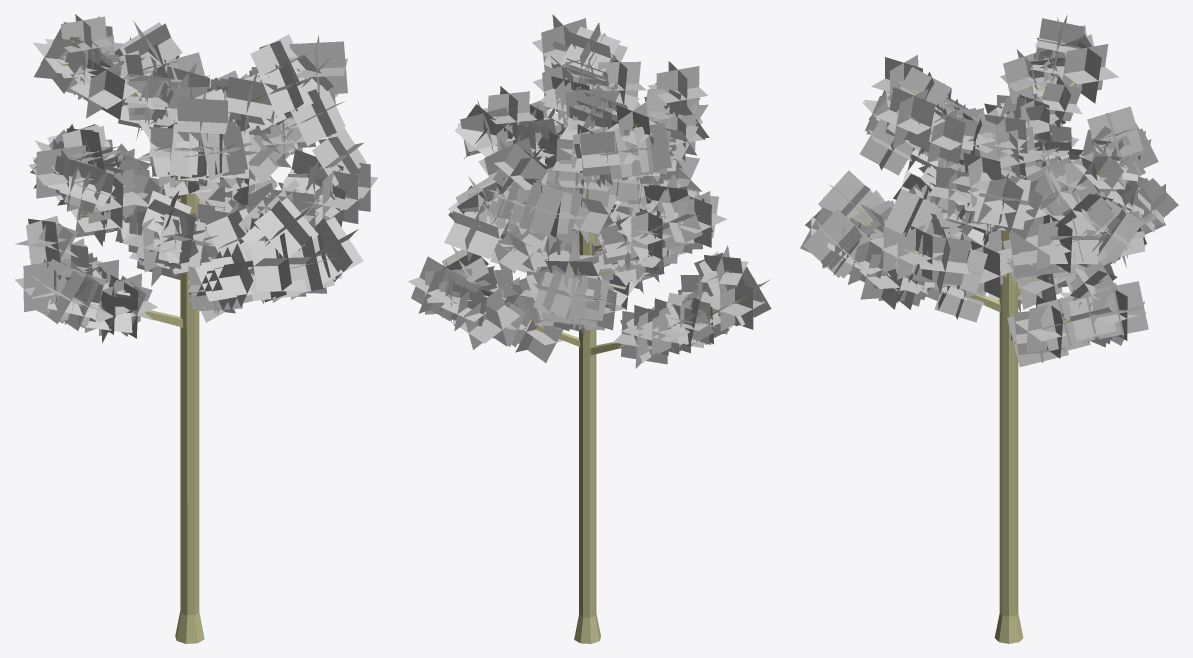
The model's file is Dau_2.fbx.
3 views of the same model, side by side, from view 1: azimuth 30°, elevation 25°; view 2: azimuth 150°, elevation 25°; view 3: azimuth 270°, elevation 25° (orthographic). The views are drawn at different scales.
Parts seen in each view (by area): view 1: Leaves_LOD0, Trunk_LOD0; view 2: Leaves_LOD0, Trunk_LOD0; view 3: Leaves_LOD0, Trunk_LOD0.
Boxes of the visible parts, box(x1,y1,x2,y2) form: Leaves_LOD0: box(15, 14, 377, 342); Trunk_LOD0: box(33, 38, 345, 643); Leaves_LOD0: box(408, 14, 771, 368); Trunk_LOD0: box(445, 32, 746, 643); Leaves_LOD0: box(800, 14, 1178, 366); Trunk_LOD0: box(847, 40, 1131, 643).
Size of what is drawn, in the model's own units: 4182 by 7574 by 4417.
